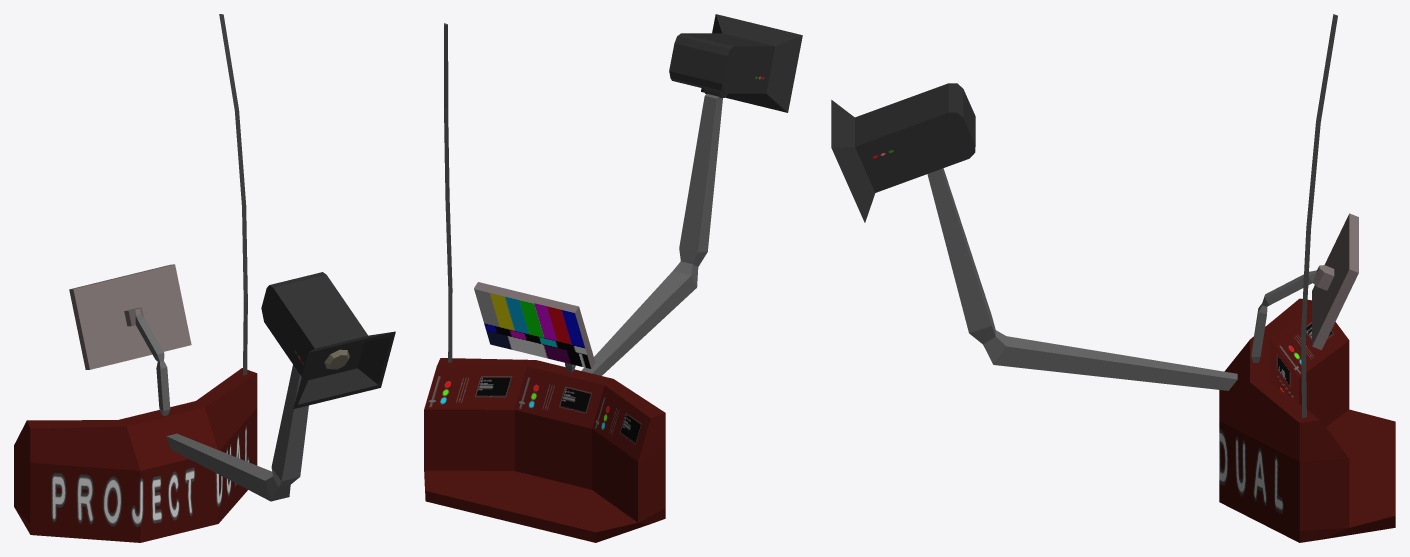
File: cameraBooth.fbx
3 views of the same model, side by side, from view 1: azimuth 30°, elevation 25°; view 2: azimuth 150°, elevation 25°; view 3: azimuth 270°, elevation 25° (orthographic). The views are drawn at different scales.
Visible parts, largest first — view 1: Cube.002, Cube, Cube.003, Cube.001; view 2: Cube.002, Cube, Cube.001, Cube.003; view 3: Cube.002, Cube, Cube.001, Cube.003.
Part boxes in pixels (x1,y1,x2,y2): Cube.002: (14, 14, 257, 542); Cube: (261, 272, 395, 408); Cube.003: (69, 264, 191, 369); Cube.001: (166, 365, 308, 501); Cube.002: (424, 23, 665, 542); Cube: (669, 14, 802, 112); Cube.001: (581, 94, 722, 375); Cube.003: (474, 282, 595, 368); Cube.002: (1219, 14, 1395, 542); Cube: (831, 83, 975, 222); Cube.001: (927, 168, 1237, 390); Cube.003: (1312, 213, 1358, 349).
Bounding box in the file's own units: 446 × 862 × 853.
Materials: 1 (1 with a texture image).
